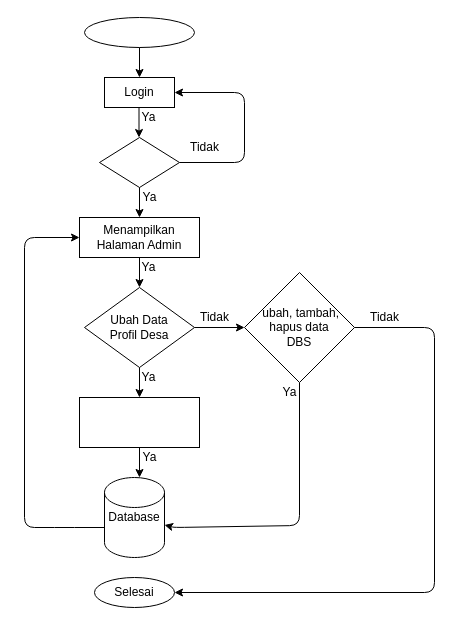
Some shapes in this 460 by 625 pixel diagram are drawn without their labels. Here are the shapes that lost their labels. From the top down, the box of each, then its label:
(84, 16, 194, 48): Mulai
(98, 136, 180, 188): user pass
(78, 396, 200, 448): Proses Ubah Data Profil Desa
